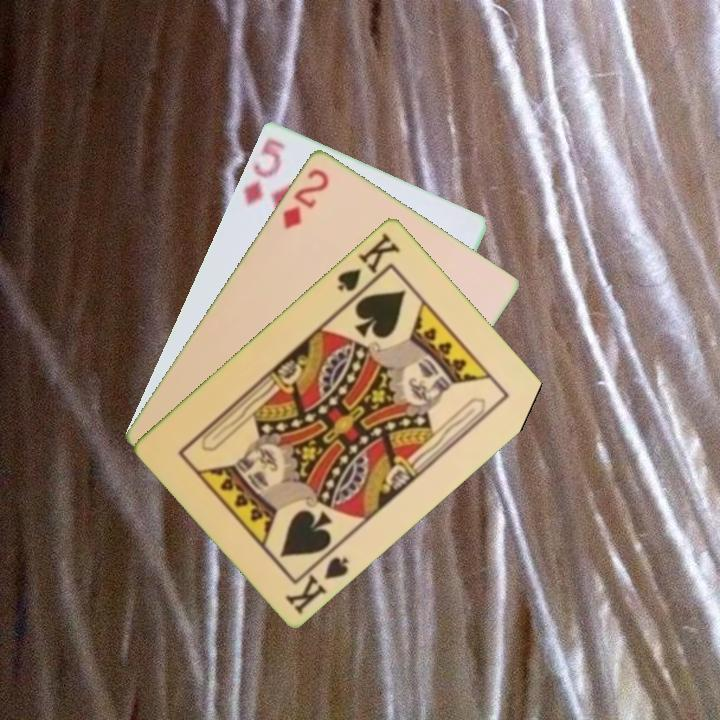2d: (278, 164, 332, 232)
5d: (239, 134, 288, 208)
Ks: (281, 541, 352, 617), (333, 228, 404, 294)
